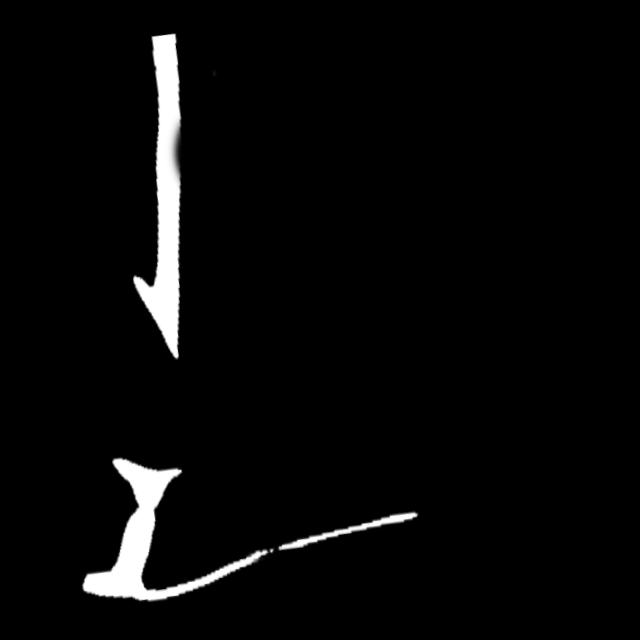inf: (266, 535, 294, 558)
